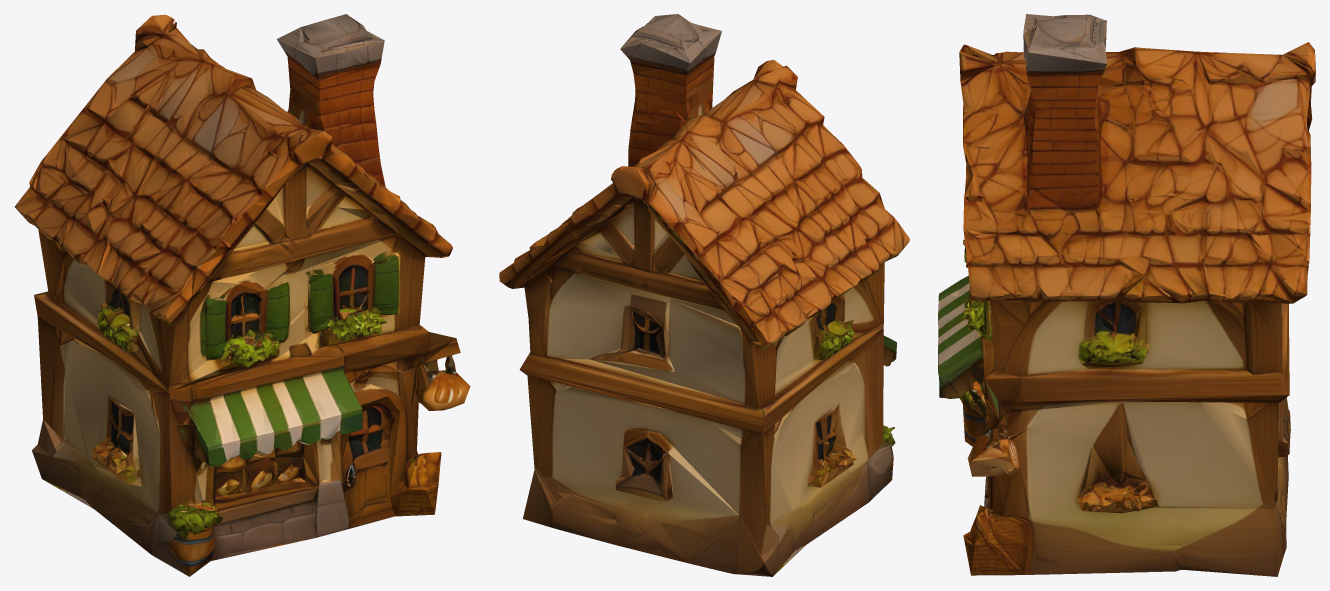
Rendered from ck_bakery.glb.
The picture shows the model from 3 angles, left to right: view 1: azimuth 30°, elevation 25°; view 2: azimuth 150°, elevation 25°; view 3: azimuth 270°, elevation 25°; orthographic projection. The views are drawn at different scales.
Visible parts, largest first — view 1: ck_bakery; view 2: ck_bakery; view 3: ck_bakery.
Boxes of the visible parts, bbox=[...] form: ck_bakery: bbox=[14, 14, 470, 576]; ck_bakery: bbox=[499, 14, 909, 576]; ck_bakery: bbox=[938, 14, 1315, 576].
Size of the model in its own units: 1.36 by 1.98 by 1.29.
1 material, 1 textured.
